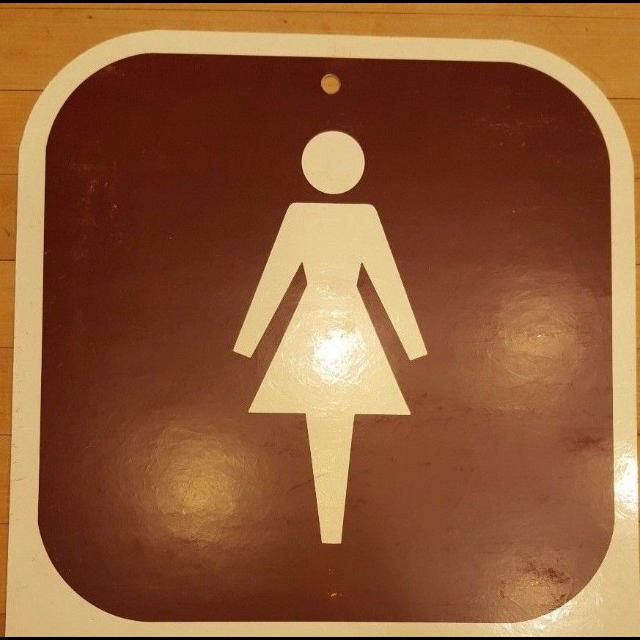wc nu: (40, 55, 611, 622)
